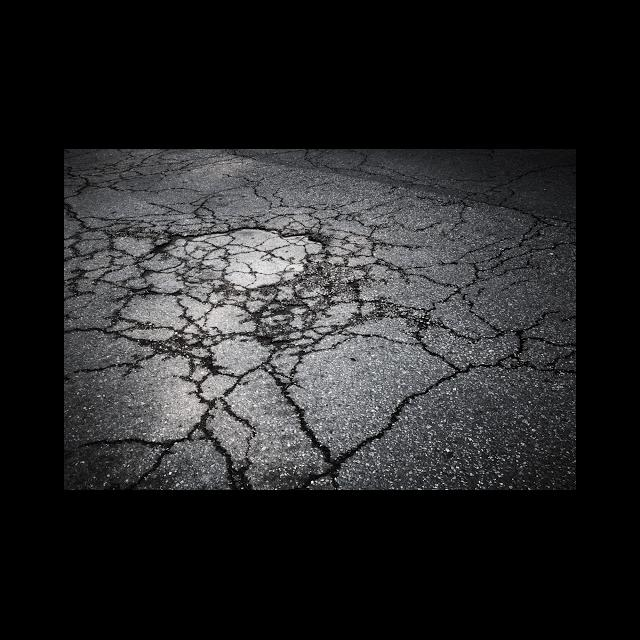retak_kulit_buaya: (64, 150, 464, 490), (395, 176, 576, 420)
